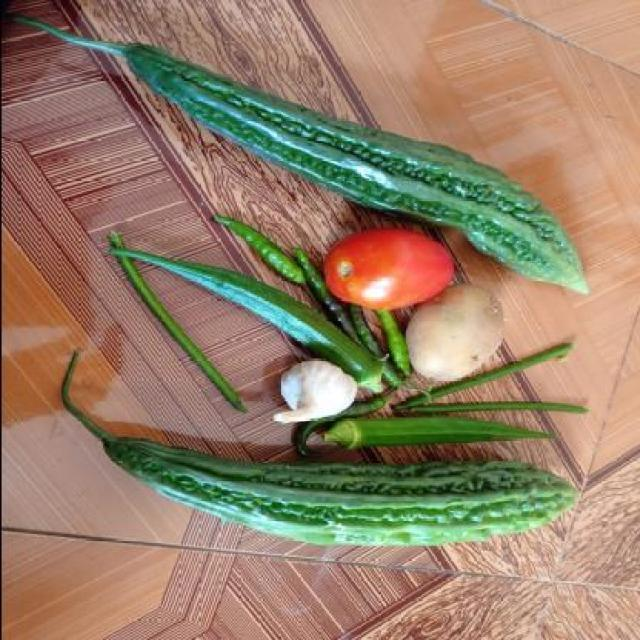Bitter melon: (77, 438, 594, 558)
Garlic: (255, 356, 357, 422)
Green Chili: (208, 195, 318, 294)
Lady finger: (314, 412, 557, 454)
Potato: (410, 288, 508, 390)
Tomato: (326, 218, 452, 314)
